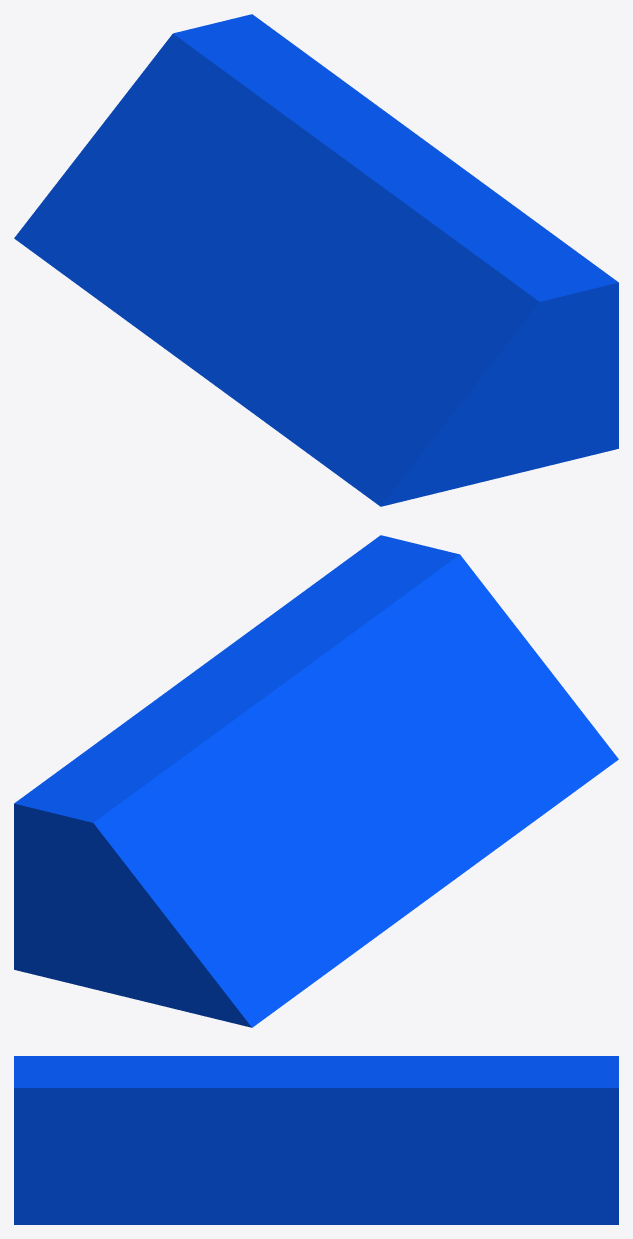
Rendered from COL_Floor-Stairs-4x2x1-Layered-Long-Narrow.FBX.
3 renders of one model, top to bottom at view 1: azimuth 30°, elevation 25°; view 2: azimuth 150°, elevation 25°; view 3: azimuth 270°, elevation 25°, orthographic. The views are drawn at different scales.
Visible parts, largest first — view 1: COL_Floor-Stairs-4x2x1-Layered-Long-Narrow; view 2: COL_Floor-Stairs-4x2x1-Layered-Long-Narrow; view 3: COL_Floor-Stairs-4x2x1-Layered-Long-Narrow.
Part boxes in pixels (bbox=[...]): COL_Floor-Stairs-4x2x1-Layered-Long-Narrow: bbox=[14, 14, 618, 506]; COL_Floor-Stairs-4x2x1-Layered-Long-Narrow: bbox=[14, 535, 618, 1027]; COL_Floor-Stairs-4x2x1-Layered-Long-Narrow: bbox=[14, 1056, 618, 1224].
Bounding box in the file's own units: 15 × 10 × 40.
